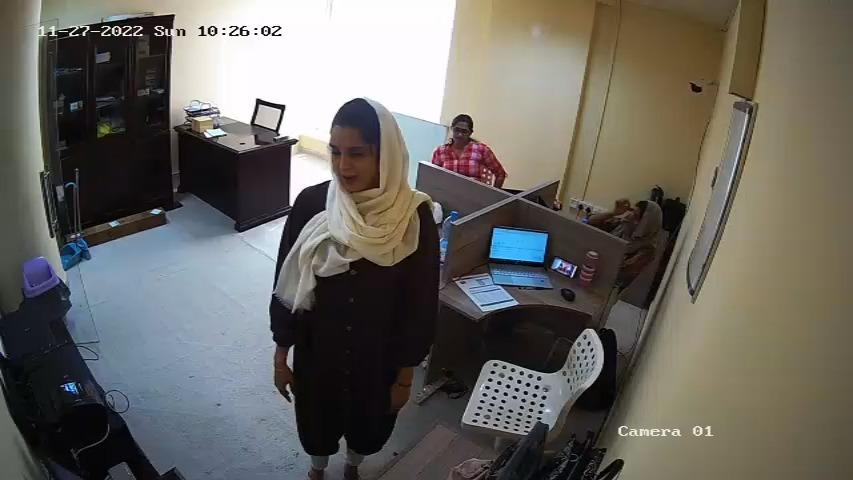no_apron: (293, 189, 402, 395)
